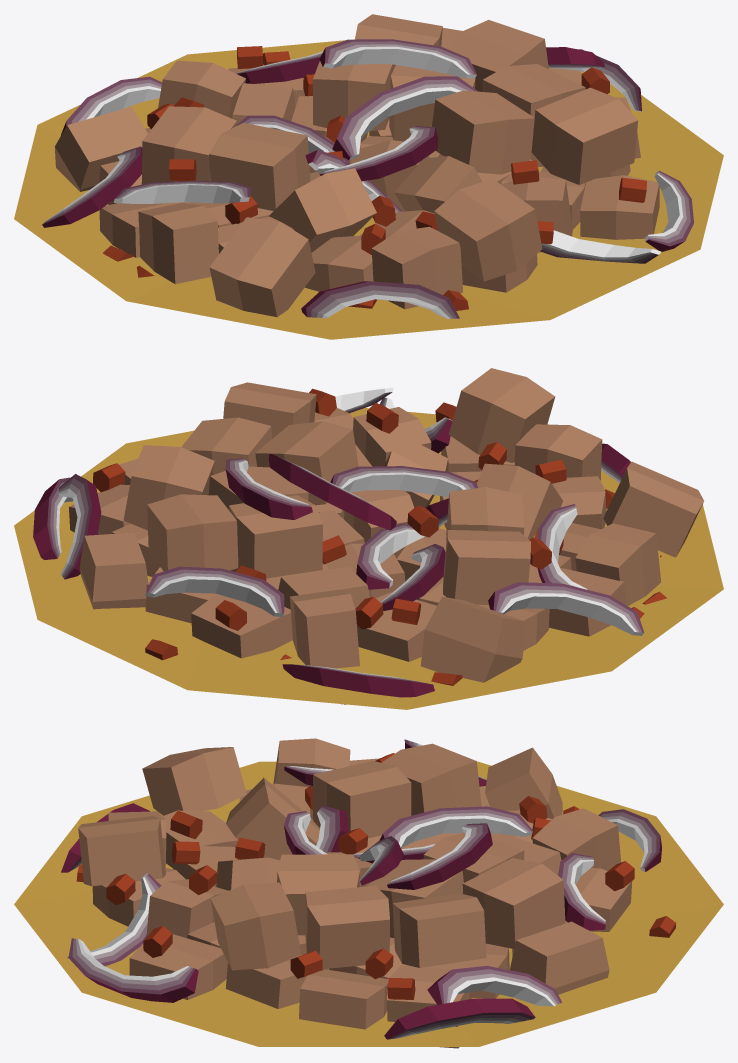
Rendered from Kinilaw sa isda.fbx.
3 views of the same model, one above another, from view 1: azimuth 30°, elevation 25°; view 2: azimuth 150°, elevation 25°; view 3: azimuth 270°, elevation 25° (orthographic). The views are drawn at different scales.
Visible parts, largest first — view 1: Kinilaw sa Isda; view 2: Kinilaw sa Isda; view 3: Kinilaw sa Isda.
Boxes of the visible parts, x1,y1,x2,y2 form: Kinilaw sa Isda: (14, 14, 723, 339); Kinilaw sa Isda: (14, 368, 723, 709); Kinilaw sa Isda: (14, 738, 723, 1048).
Bounding box in the file's own units: 100 × 19.73 × 105.
